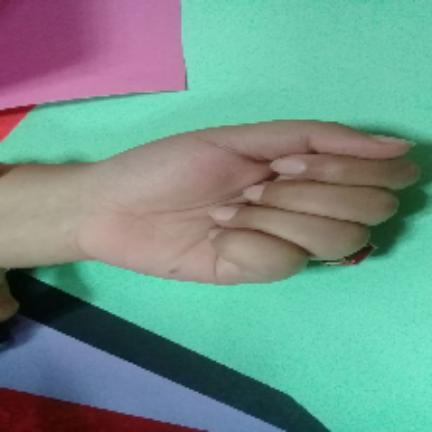Nail: (270, 157, 308, 174), (208, 206, 239, 220), (242, 185, 265, 200), (371, 135, 407, 143), (208, 228, 223, 241)
